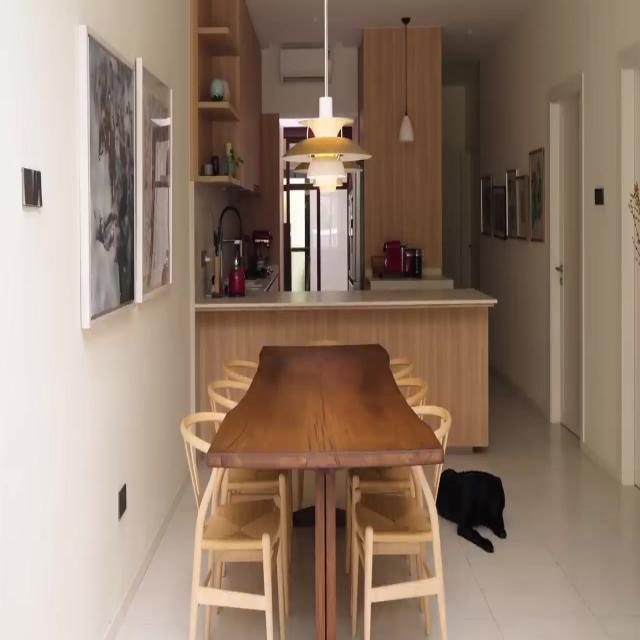door: (551, 98, 584, 434)
obstacle: (206, 342, 444, 638), (190, 0, 262, 192)
